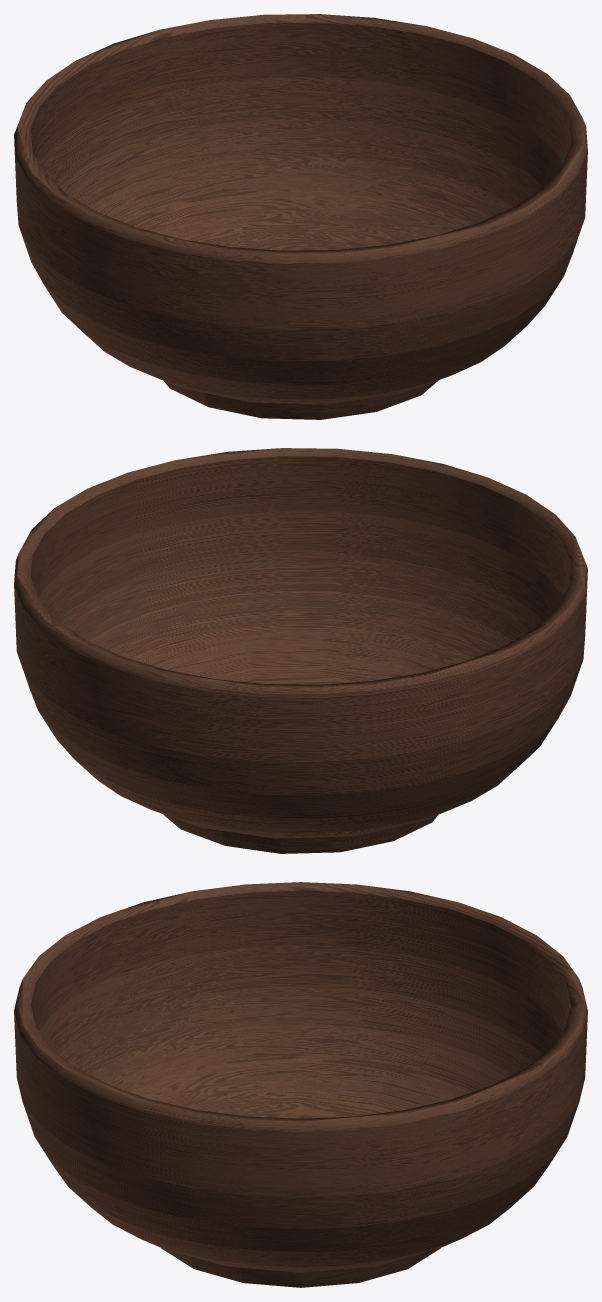
The model's file is maceta.fbx.
3 views of the same model, one above another, from view 1: azimuth 30°, elevation 25°; view 2: azimuth 150°, elevation 25°; view 3: azimuth 270°, elevation 25° (orthographic).
Parts seen in each view (by area): view 1: Tazon2; view 2: Tazon2; view 3: Tazon2.
Part boxes in pixels (x1,y1,x2,y2): Tazon2: (14,14,587,419); Tazon2: (14,448,587,853); Tazon2: (14,882,587,1287).
Size of the model in its own units: 1.72 by 0.7371 by 1.72.
Materials: 1 (1 with a texture image).
